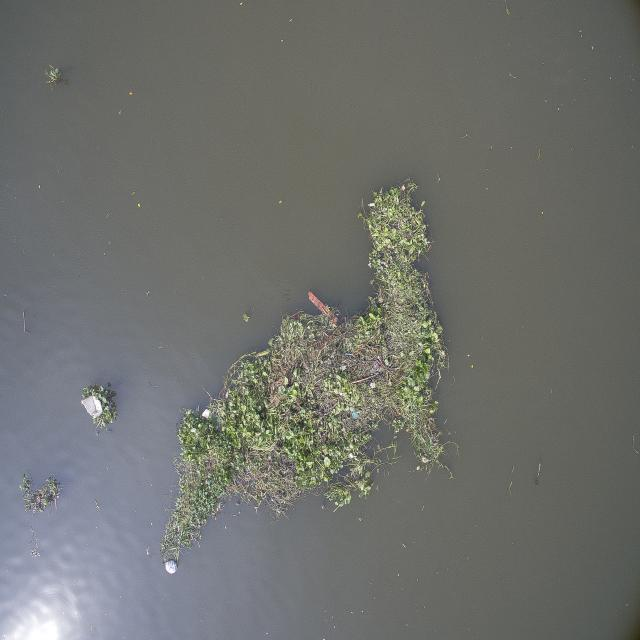plastic: (76, 382, 120, 434), (200, 403, 218, 427)
